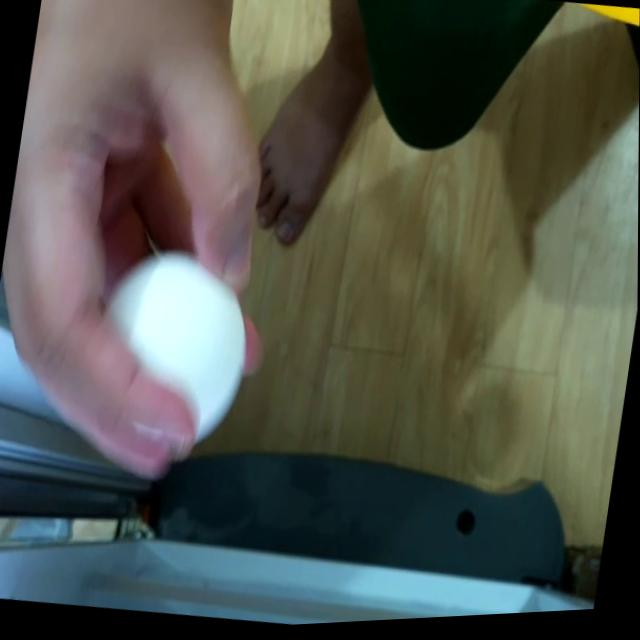egg: (80, 237, 261, 452)
